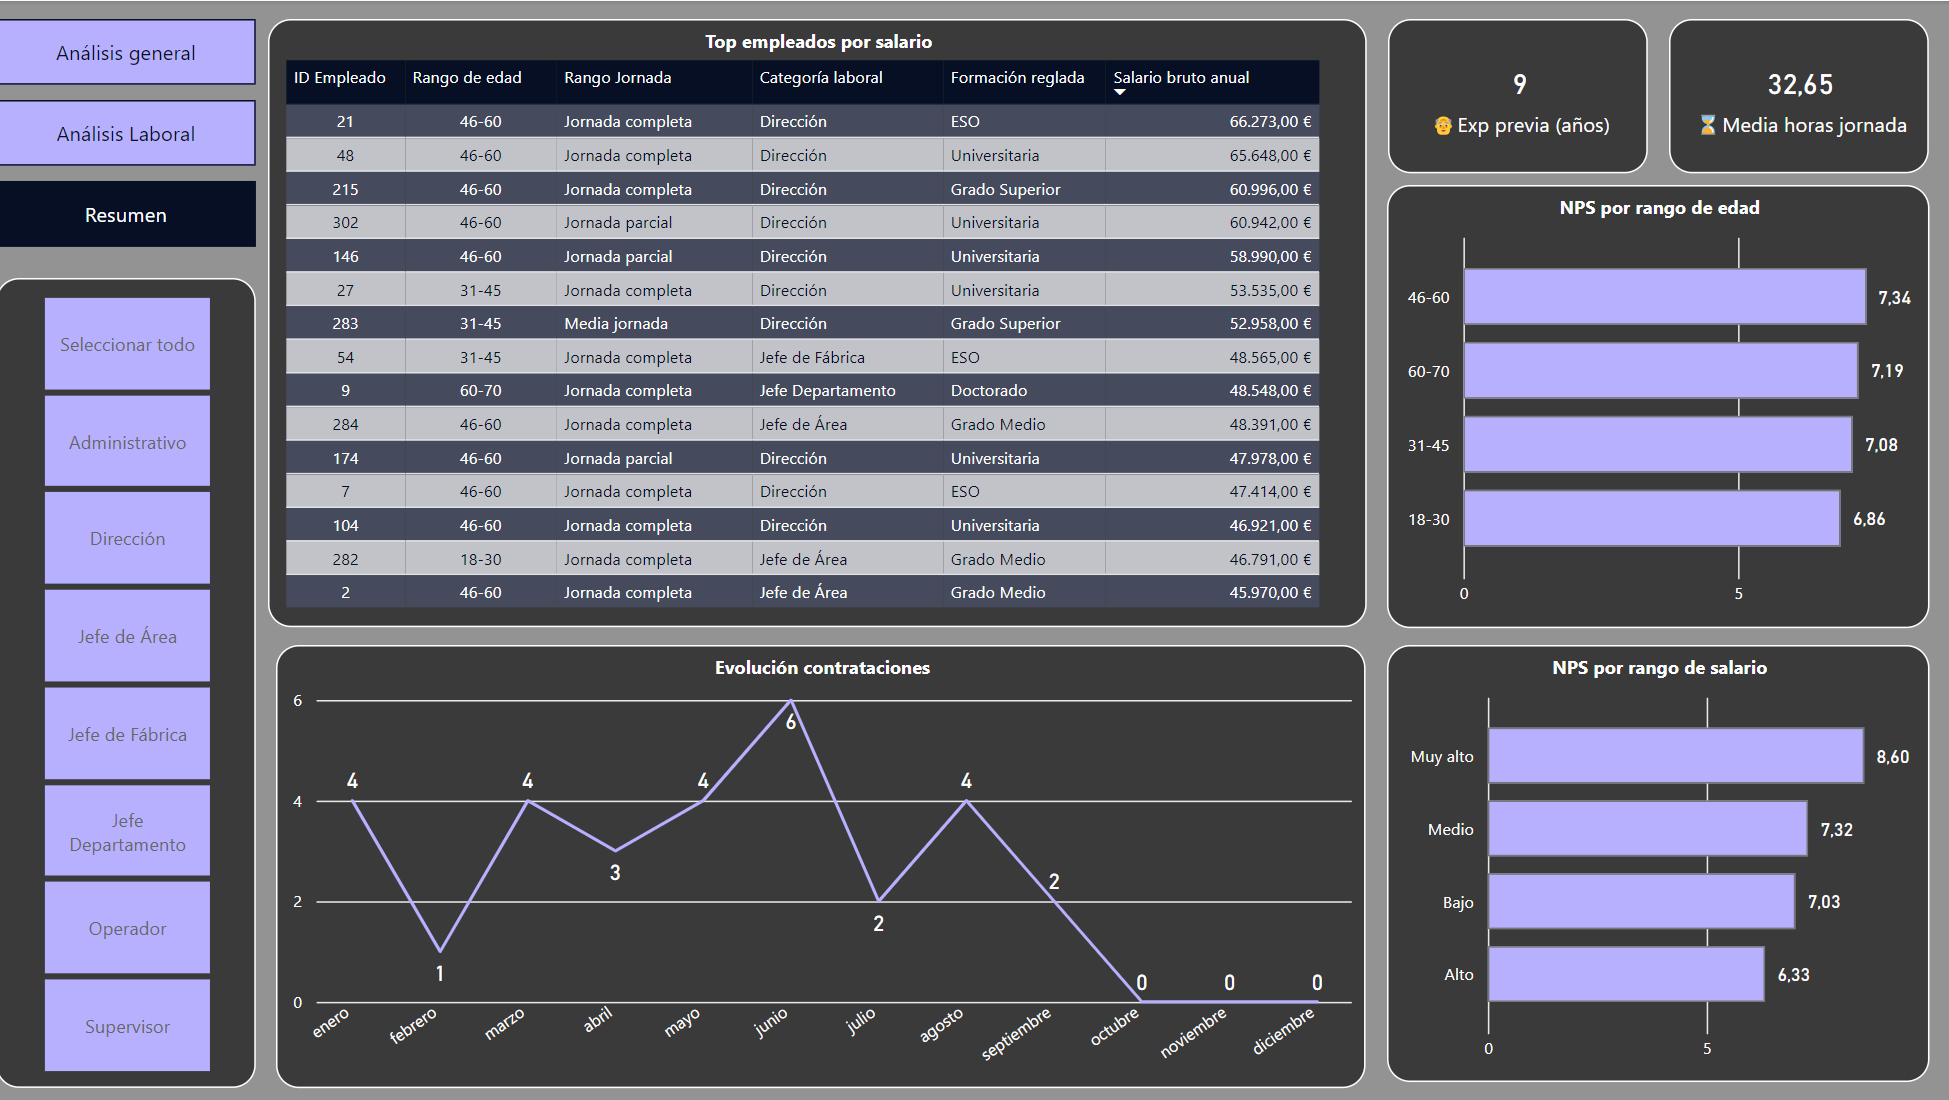

The dashboard page shown, as its layout file describes it:
{"tool":"powerbi","page":{"name":"Resumen","canvas":[1280,720],"ordinal":2},"visuals":[{"type":"slicer","fields":{"Values":["Tabla_datos.Categoría laboral"]},"box":[0,181.4,170.4,529.9],"z":0},{"type":"barChart","title":"NPS por rango de edad","fields":{"Category":["Tabla_datos.Rango de edad"],"Y":["Avg(Tabla_datos.NPS)"]},"box":[910.1,120.2,355.1,289.5],"z":1000},{"type":"card","fields":{"Values":["Avg(Tabla_datos.Exp previa años)"]},"box":[910.9,12,170.4,100.5],"z":2000},{"type":"card","fields":{"Values":["Avg(Tabla_datos.Horas Jornada)"]},"box":[1094.7,12,170.4,100.5],"z":3000},{"type":"pageNavigator","box":[0,12,170,150],"z":4000},{"type":"lineChart","title":"Evolución contrataciones","fields":{"Category":["Calendario.Date.Variación.Jerarquía de fechas.Mes"],"Y":["Sum(Tabla_datos.Nuevas contrataciones 2020)"]},"box":[183.6,421.7,713.4,289.5],"z":5000},{"type":"tableEx","title":"Top empleados por salario","fields":{"Values":["Tabla_datos.ID Empleado","Tabla_datos.Rango de edad","Tabla_datos.Rango Jornada","Tabla_datos.Categoría laboral","Tabla_datos.Formación Oficial Reglada","Avg(Tabla_datos.Salario Anual Actual 2020)"]},"box":[178.1,12,718.9,397.7],"z":6000},{"type":"barChart","title":"NPS por rango de salario","fields":{"Category":["Tabla_datos.Rango salario"],"Y":["Avg(Tabla_datos.NPS)"]},"box":[910.1,421.7,355.1,286.3],"z":7000}]}

Visuals, with their boxes in screenshot pixels (x1, y1, x2, y2), scaled from the page's 1280x720 canvas onto the 1949x1100 screenshot:
slicer - Tabla_datos.Categoría laboral: bbox(0, 277, 259, 1087)
"NPS por rango de edad" barChart: bbox(1386, 184, 1926, 626)
card - Avg(Tabla_datos.Exp previa años): bbox(1387, 18, 1646, 172)
card - Avg(Tabla_datos.Horas Jornada): bbox(1667, 18, 1926, 172)
pageNavigator: bbox(0, 18, 259, 247)
"Evolución contrataciones" lineChart: bbox(280, 644, 1366, 1087)
"Top empleados por salario" tableEx: bbox(271, 18, 1366, 626)
"NPS por rango de salario" barChart: bbox(1386, 644, 1926, 1082)
